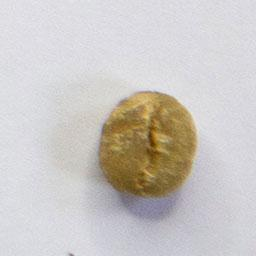peaberry: (94, 86, 201, 199)
